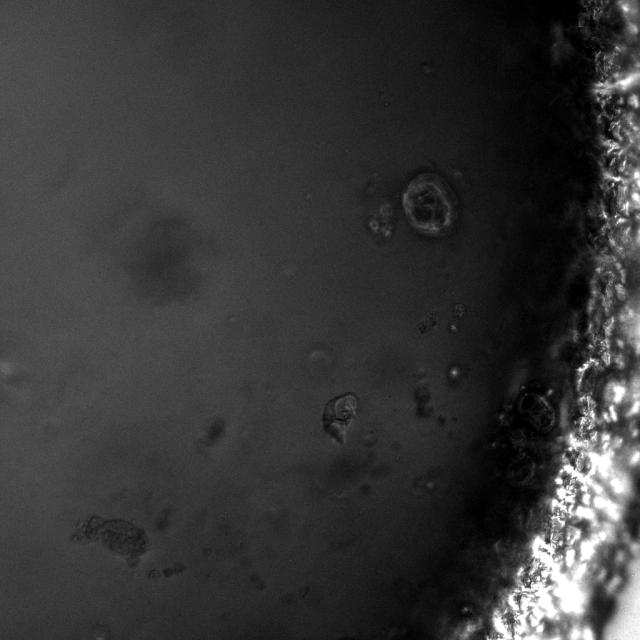organoid: (367, 172, 459, 238), (70, 515, 147, 565)
